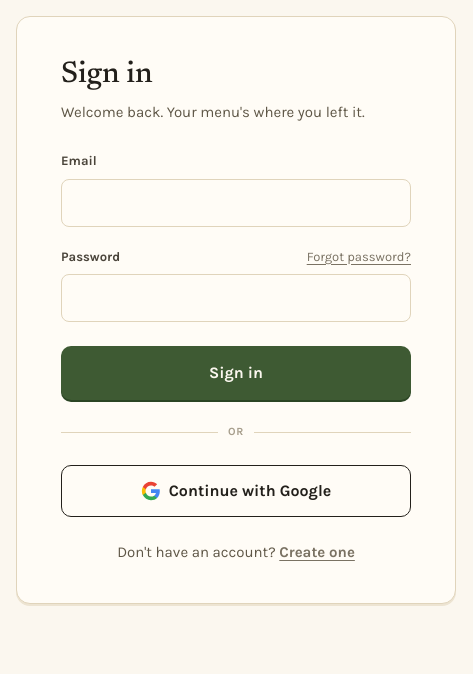
Test: LoginPage › checks the fields before sending anything
Type "jamie" into the field labelled "Email" at (236, 202), box [61,178,411,226]
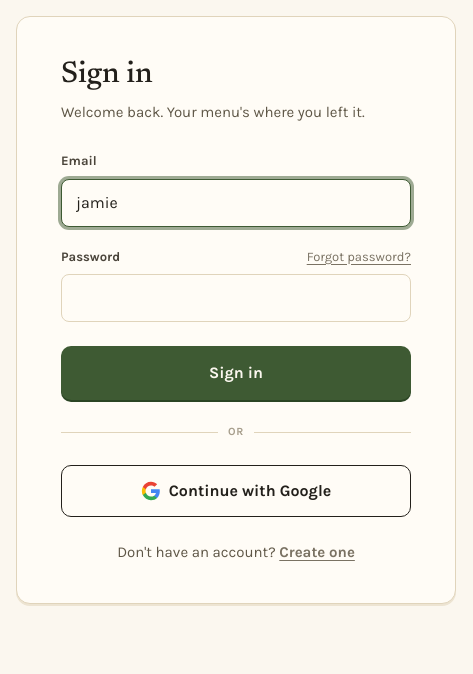
Click the button "Sign in" at (236, 373), box [61,346,411,400]
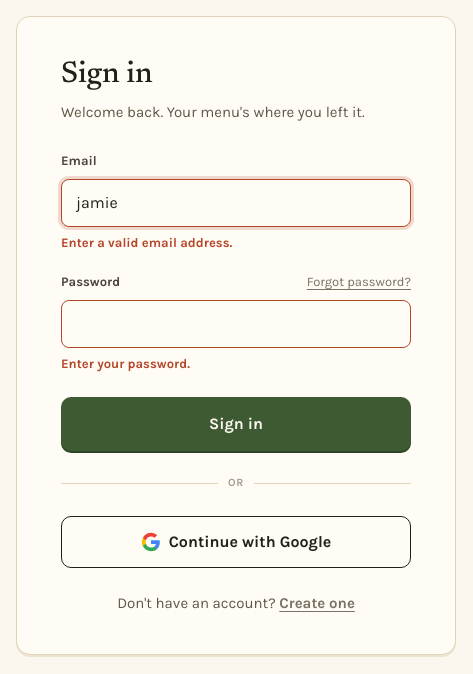
Now the text "Enter a valid email address." is shown, box [61,234,232,250]
Now the text "Enter your password." is shown, box [61,356,190,370]
